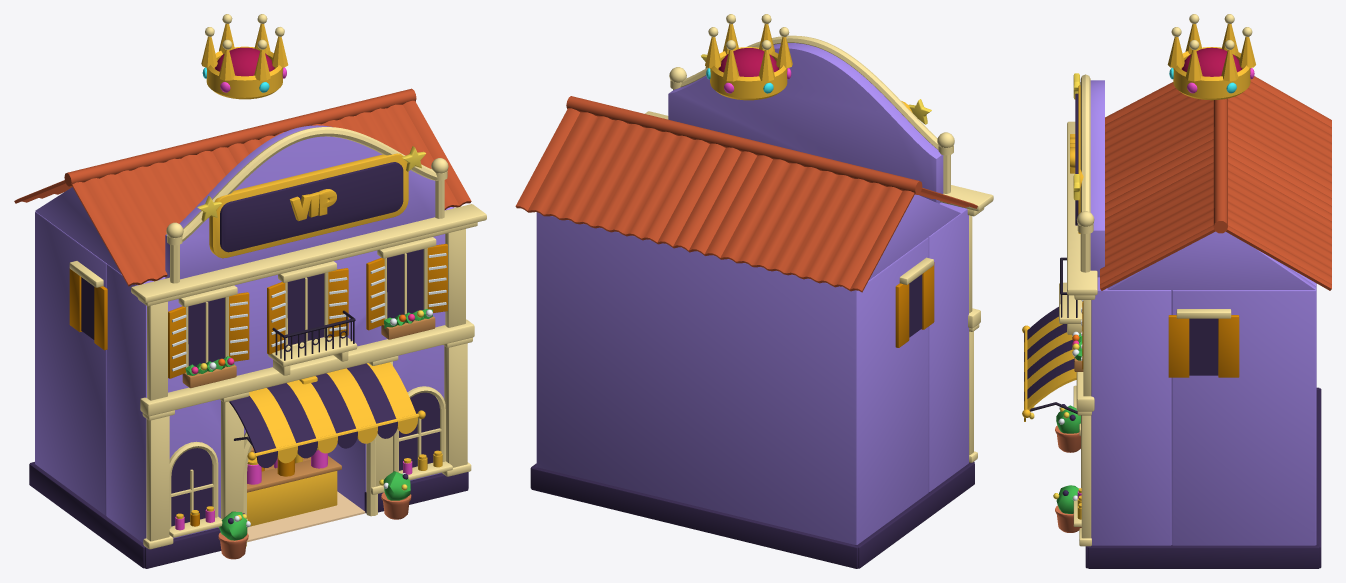
The model's file is lobby_shop_vip.obj.
3 renders of one model, left to right at view 1: azimuth 30°, elevation 25°; view 2: azimuth 150°, elevation 25°; view 3: azimuth 270°, elevation 25°, orthographic.
Parts seen in each view (by area): view 1: lobby_shop_vip, lobby_shop_vip_Sign; view 2: lobby_shop_vip; view 3: lobby_shop_vip, lobby_shop_vip_Sign.
Part boxes in pixels (box(x1,y1,x2,y2)): lobby_shop_vip: box(14, 14, 486, 568); lobby_shop_vip_Sign: box(197, 146, 425, 258); lobby_shop_vip: box(515, 14, 993, 568); lobby_shop_vip: box(1022, 14, 1331, 568); lobby_shop_vip_Sign: box(1070, 73, 1083, 233).
Bounding box in the file's own units: 25 × 31.67 × 19.25.
2 materials, 2 textured.
